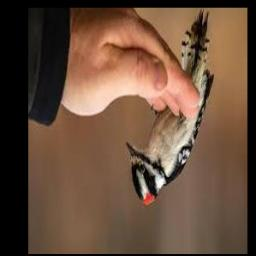Woodpecker: (126, 9, 214, 207)
